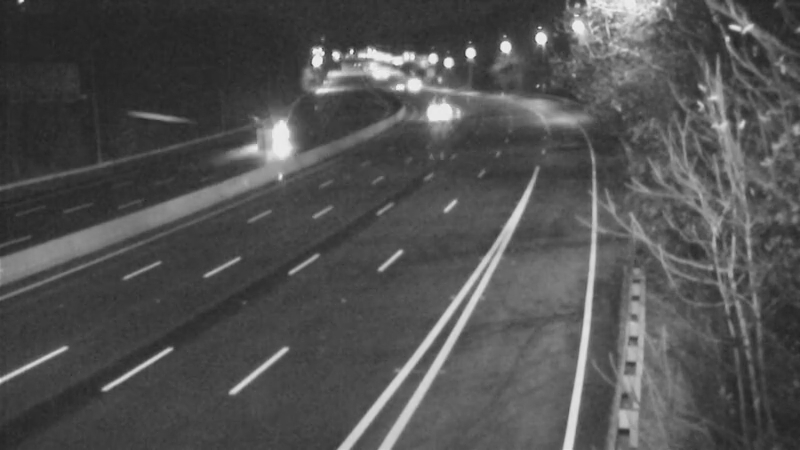vehicle: (387, 61, 437, 111), (370, 61, 420, 111), (405, 94, 455, 144), (254, 112, 304, 162)
